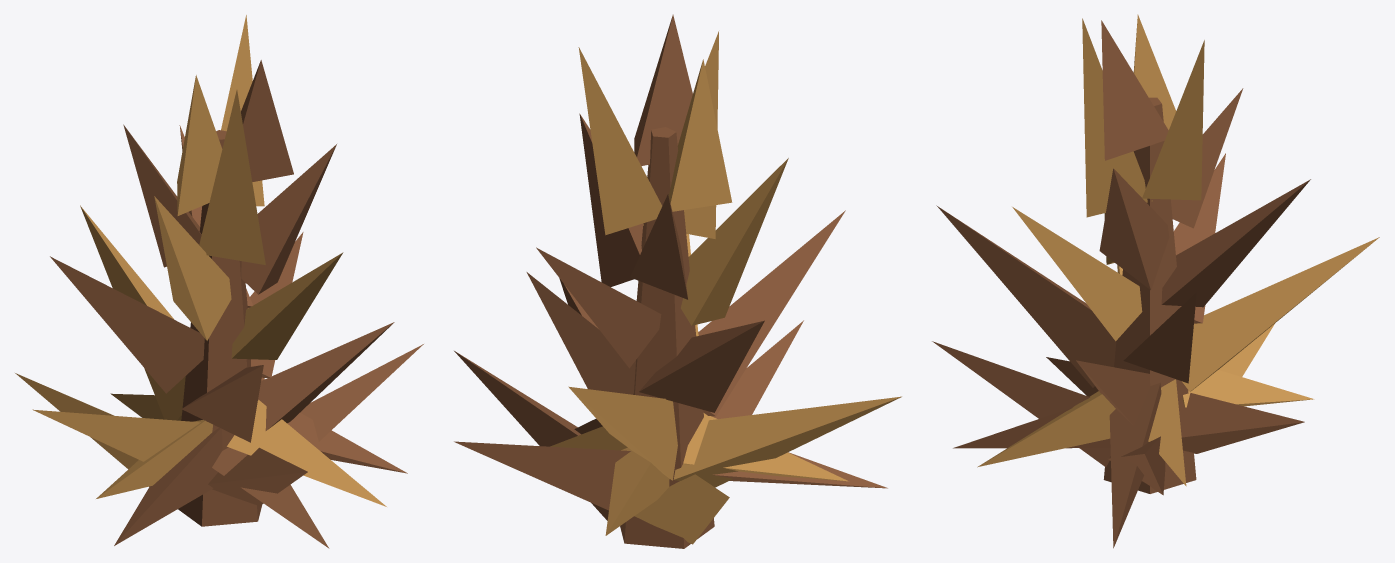
Rendered from dry_shrub_small.glb.
3 renders of one model, left to right at view 1: azimuth 30°, elevation 25°; view 2: azimuth 150°, elevation 25°; view 3: azimuth 270°, elevation 25°, orthographic. The views are drawn at different scales.
Parts seen in each view (by area): view 1: dry_shrub_small; view 2: dry_shrub_small; view 3: dry_shrub_small.
Part boxes in pixels (left/top/right/bottom): dry_shrub_small: left=15, top=15, right=423, bottom=548; dry_shrub_small: left=454, top=14, right=901, bottom=548; dry_shrub_small: left=932, top=14, right=1379, bottom=548.
Bounding box in the file's own units: 0.3439 × 0.3737 × 0.3291.
